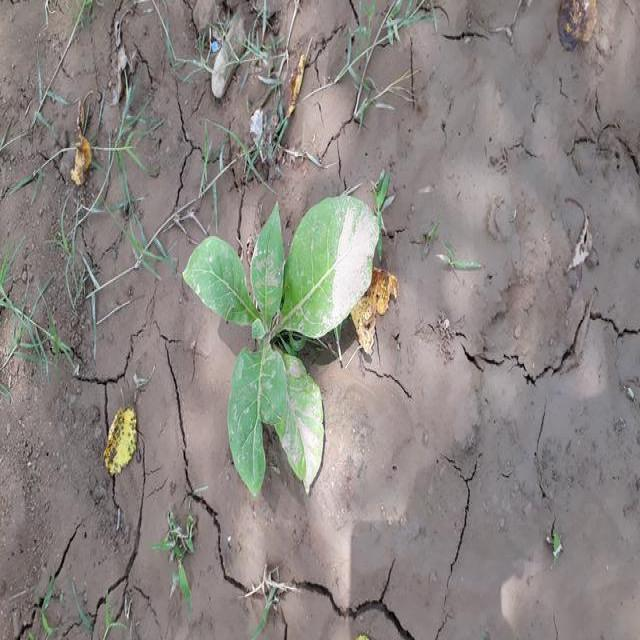crop: (185, 199, 382, 478)
